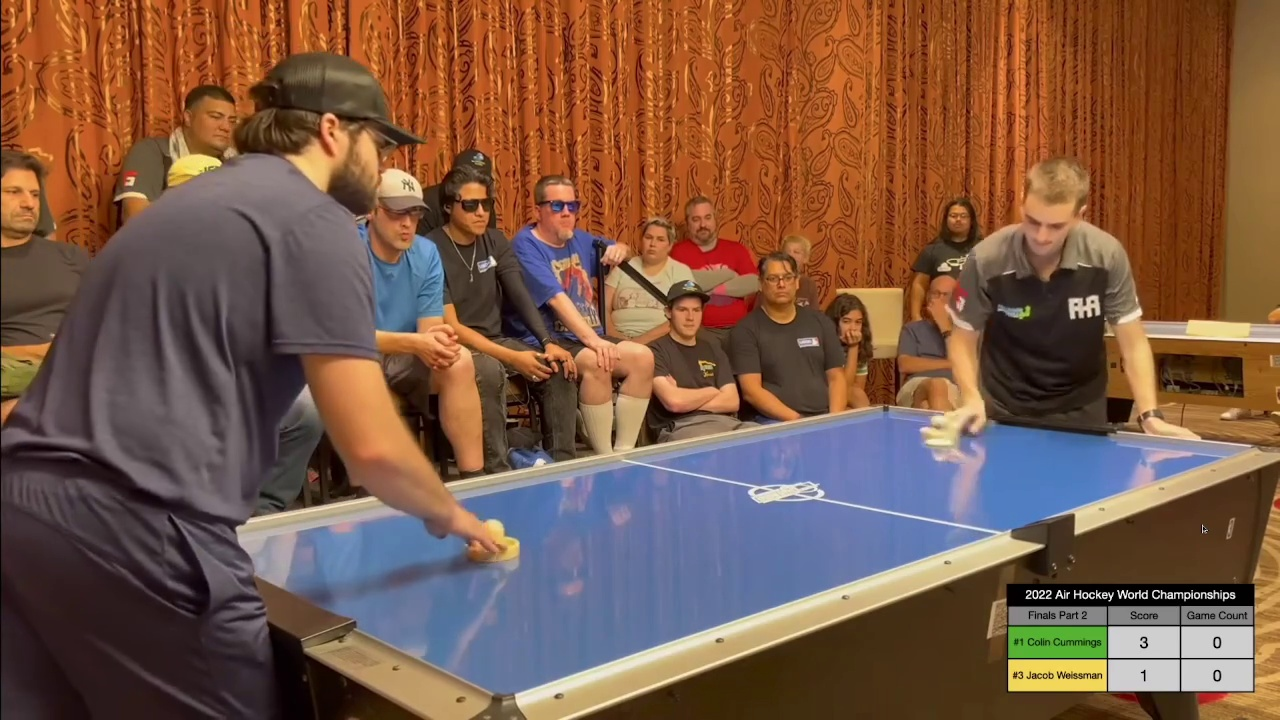player: (465, 517, 523, 562), (920, 415, 961, 440)
puck: (925, 438, 960, 450)
table: (228, 402, 1280, 695)
